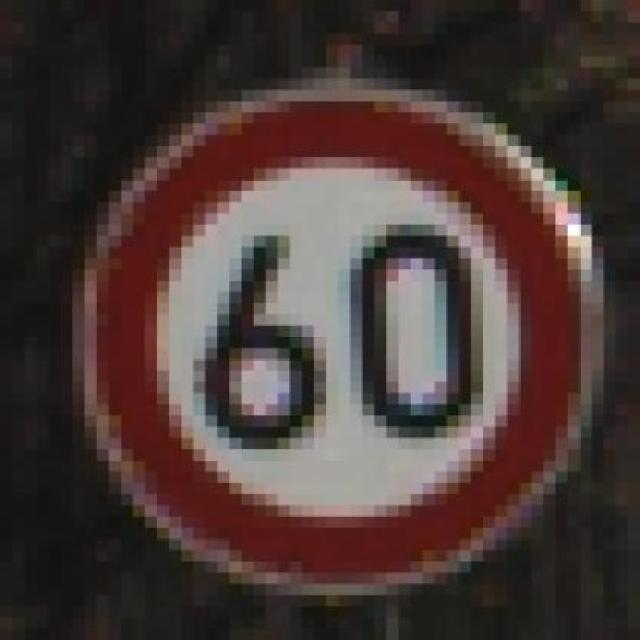forb_speed_over_60: (83, 95, 585, 582)
